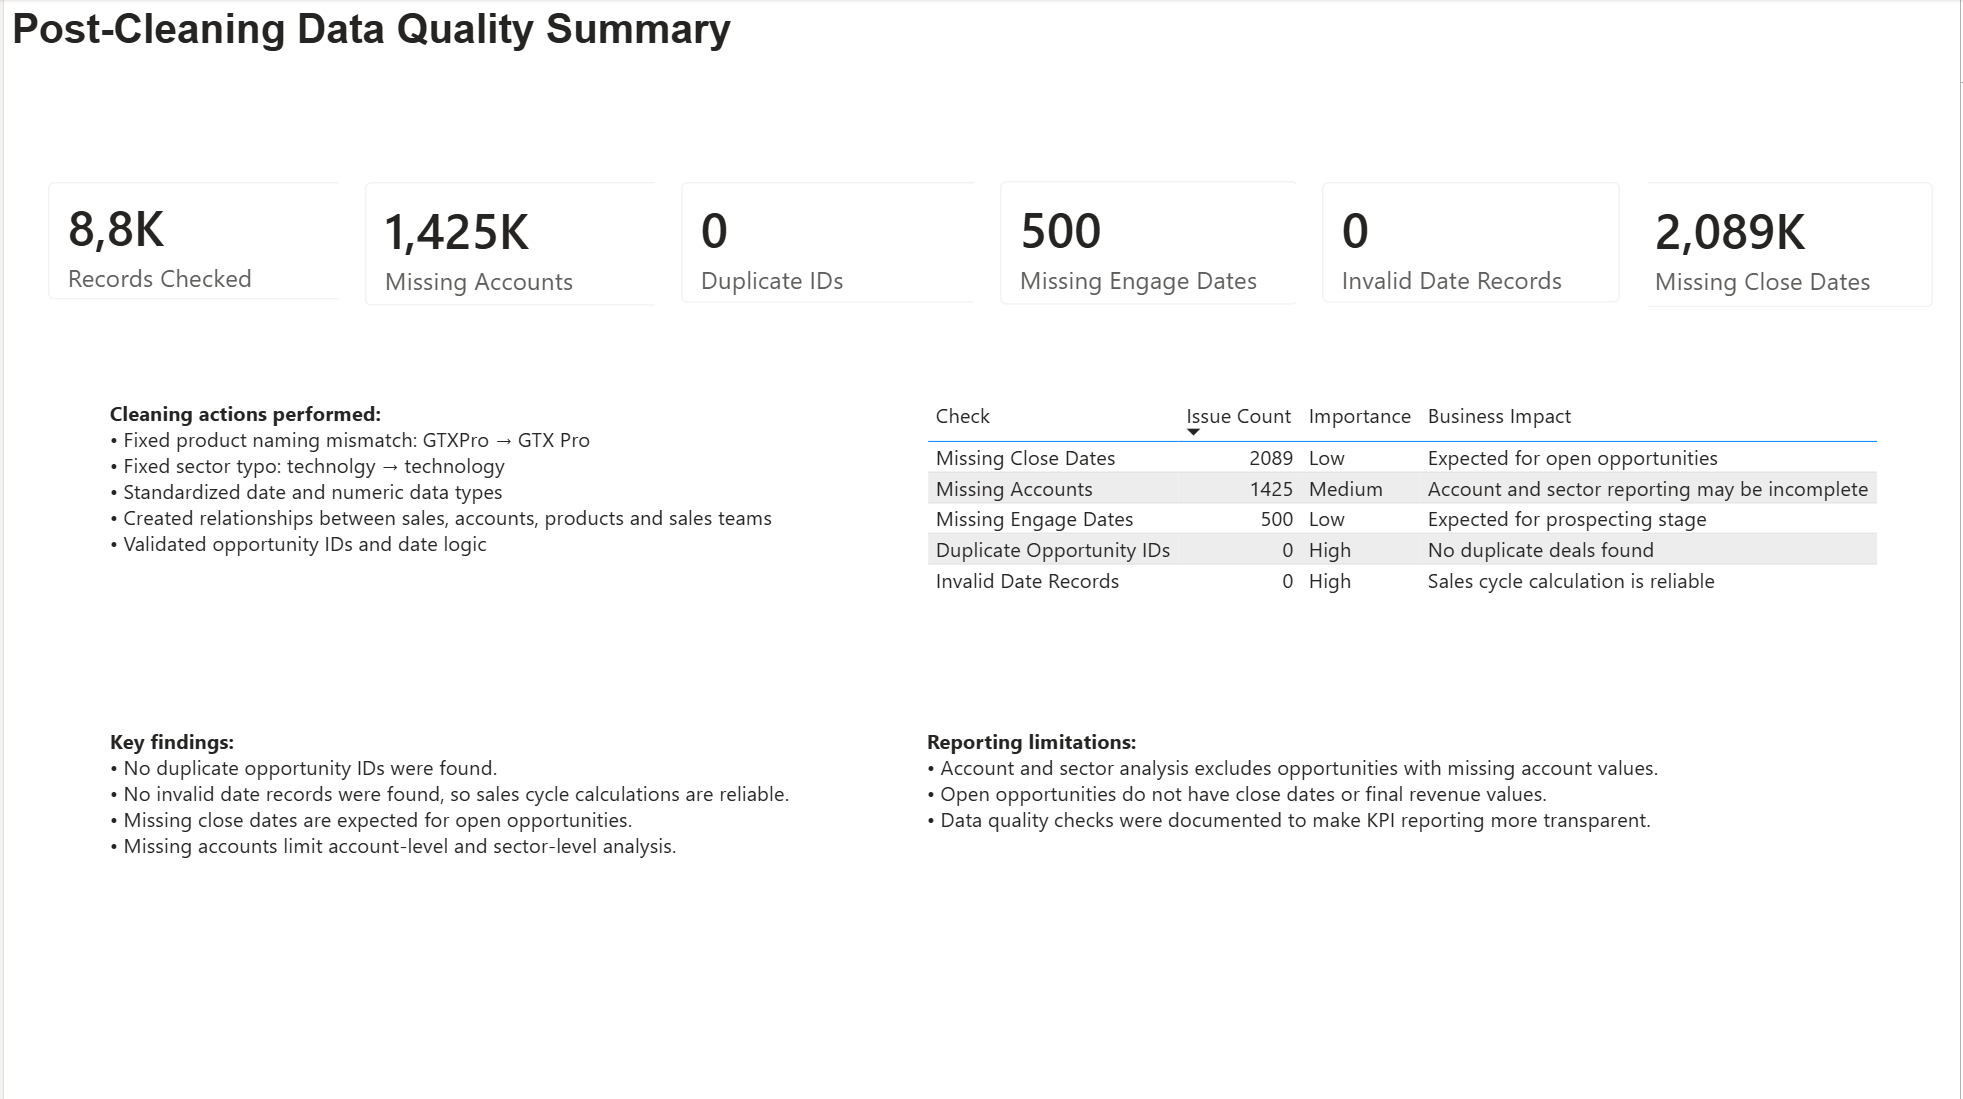

The page's visual inventory and layout, read from the dashboard file:
{"tool":"powerbi","page":{"name":"Data Quality & Cleaning Overview  ","canvas":[1280,720],"ordinal":2},"visuals":[{"type":"cardVisual","fields":{"Data":["sales_pipeline.Records Checked"]},"box":[11.8,102.7,230.3,111.9],"z":0},{"type":"cardVisual","fields":{"Data":["sales_pipeline.Missing Accounts","sales_pipeline.Missing Accounts"]},"box":[219.2,102.7,229.7,115.2],"z":1000},{"type":"cardVisual","fields":{"Data":["sales_pipeline.Duplicate Opportunity IDs"]},"box":[426,102.7,229.7,113.2],"z":2000},{"type":"cardVisual","fields":{"Data":["sales_pipeline.Missing Engage Dates"]},"box":[634.8,102.1,229.7,115.2],"z":3000},{"type":"cardVisual","fields":{"Data":["sales_pipeline.Missing Close Dates"]},"box":[1050.3,102.7,229.7,116.5],"z":4000},{"type":"cardVisual","fields":{"Data":["sales_pipeline.Invalid Date Records"]},"box":[845.5,102.7,229.7,113.9],"z":5000},{"type":"textbox","box":[0,0,536.6,78.5],"z":6000},{"type":"tableEx","fields":{"Values":["Table.Check","Table.Issue Count","Table.Severity","Table.Business Impact"]},"box":[598.8,257.2,681.2,138.1],"z":7000},{"type":"textbox","box":[64.1,257.2,511,150],"z":8001},{"type":"textbox","box":[64,472,511,150],"z":8002},{"type":"textbox","box":[598.8,471.8,681,150],"z":8003}]}

Visuals, with their boxes in screenshot pixels (x1, y1, x2, y2), scaled from the page's 1280x720 canvas onto the 1963x1099 screenshot:
cardVisual - sales_pipeline.Records Checked: [x1=18, y1=157, x2=371, y2=328]
cardVisual - sales_pipeline.Missing Accounts x sales_pipeline.Missing Accounts: [x1=336, y1=157, x2=688, y2=333]
cardVisual - sales_pipeline.Duplicate Opportunity IDs: [x1=653, y1=157, x2=1006, y2=330]
cardVisual - sales_pipeline.Missing Engage Dates: [x1=974, y1=156, x2=1326, y2=332]
cardVisual - sales_pipeline.Missing Close Dates: [x1=1611, y1=157, x2=1962, y2=335]
cardVisual - sales_pipeline.Invalid Date Records: [x1=1297, y1=157, x2=1649, y2=331]
textbox: [x1=0, y1=0, x2=823, y2=120]
tableEx - Table.Check x Table.Issue Count: [x1=918, y1=393, x2=1962, y2=603]
textbox: [x1=98, y1=393, x2=882, y2=622]
textbox: [x1=98, y1=720, x2=882, y2=949]
textbox: [x1=918, y1=720, x2=1962, y2=949]
